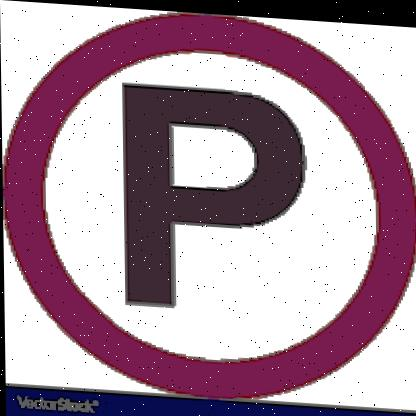Parking: (0, 0, 416, 407)
